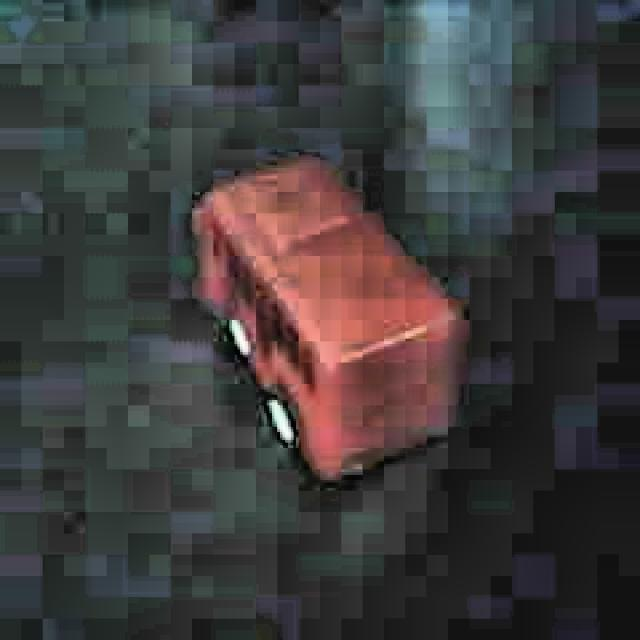bus: (180, 147, 459, 489)
